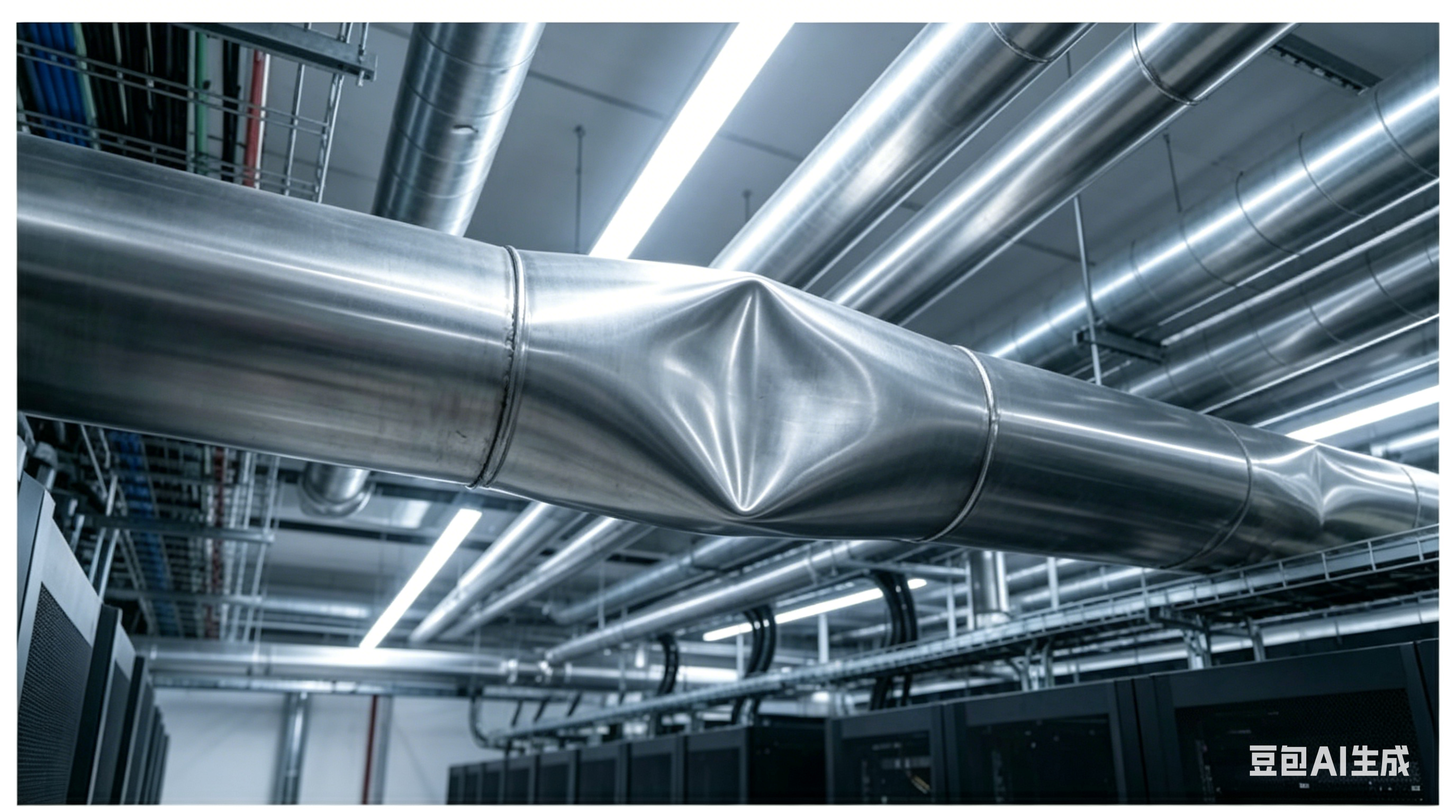Leakage: (620, 261, 929, 533), (1253, 430, 1409, 528)
